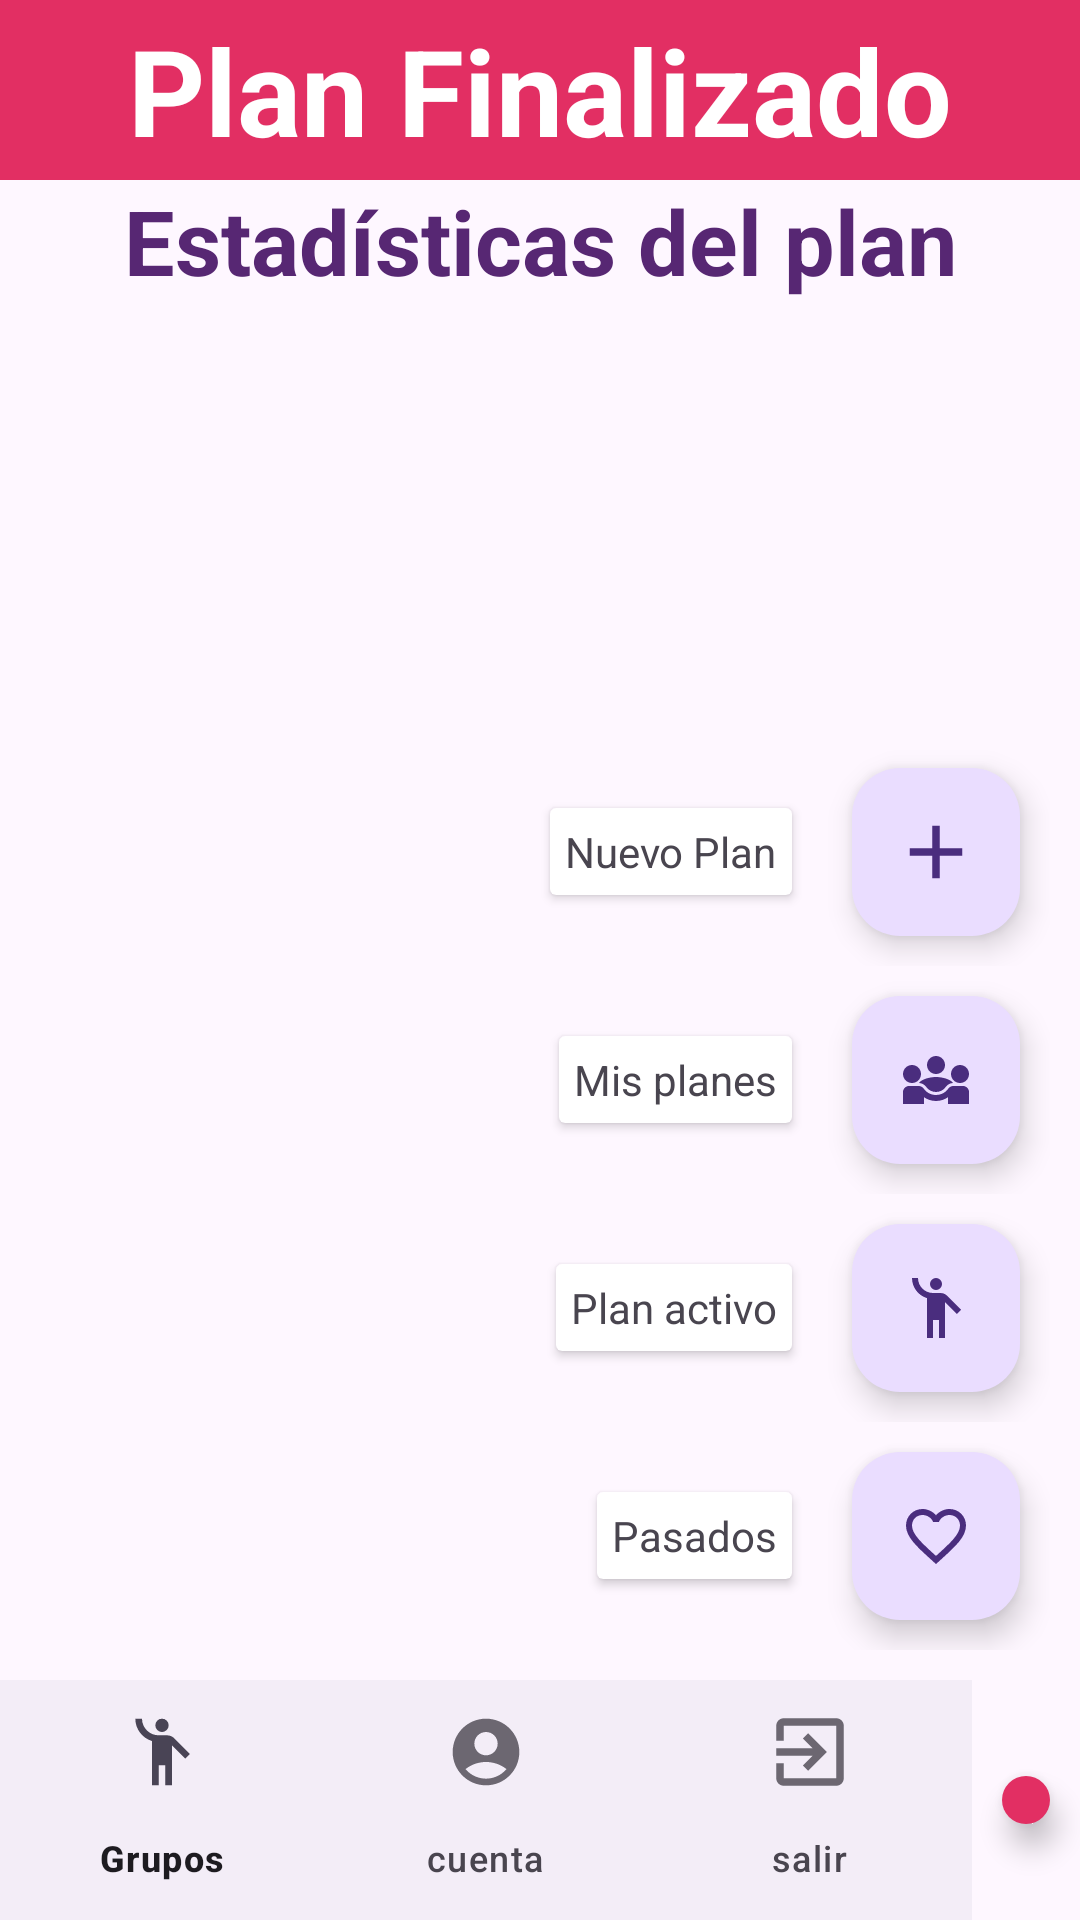

Point at icon controls on the screen. Image size 1080*1920, points as point (x, y).
mas: point (936, 852)
